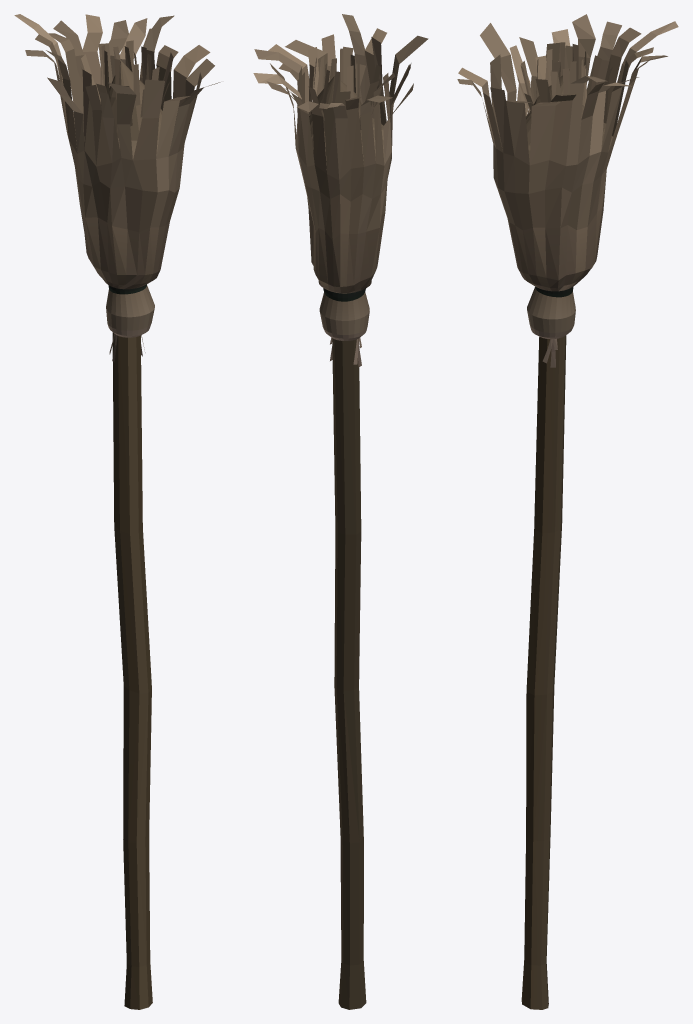
The model's file is bluntLightBroom.glb.
3 views of the same model, side by side, from view 1: azimuth 30°, elevation 25°; view 2: azimuth 150°, elevation 25°; view 3: azimuth 270°, elevation 25° (orthographic).
Parts seen in each view (by area): view 1: bluntLightBroom; view 2: bluntLightBroom; view 3: bluntLightBroom.
Boxes of the visible parts, box(x1,y1,x2,y2) form: bluntLightBroom: box(14, 14, 220, 1009); bluntLightBroom: box(253, 14, 428, 1009); bluntLightBroom: box(457, 14, 678, 1009).
Size of the model in its own units: 0.2577 by 1.57 by 0.3285.
